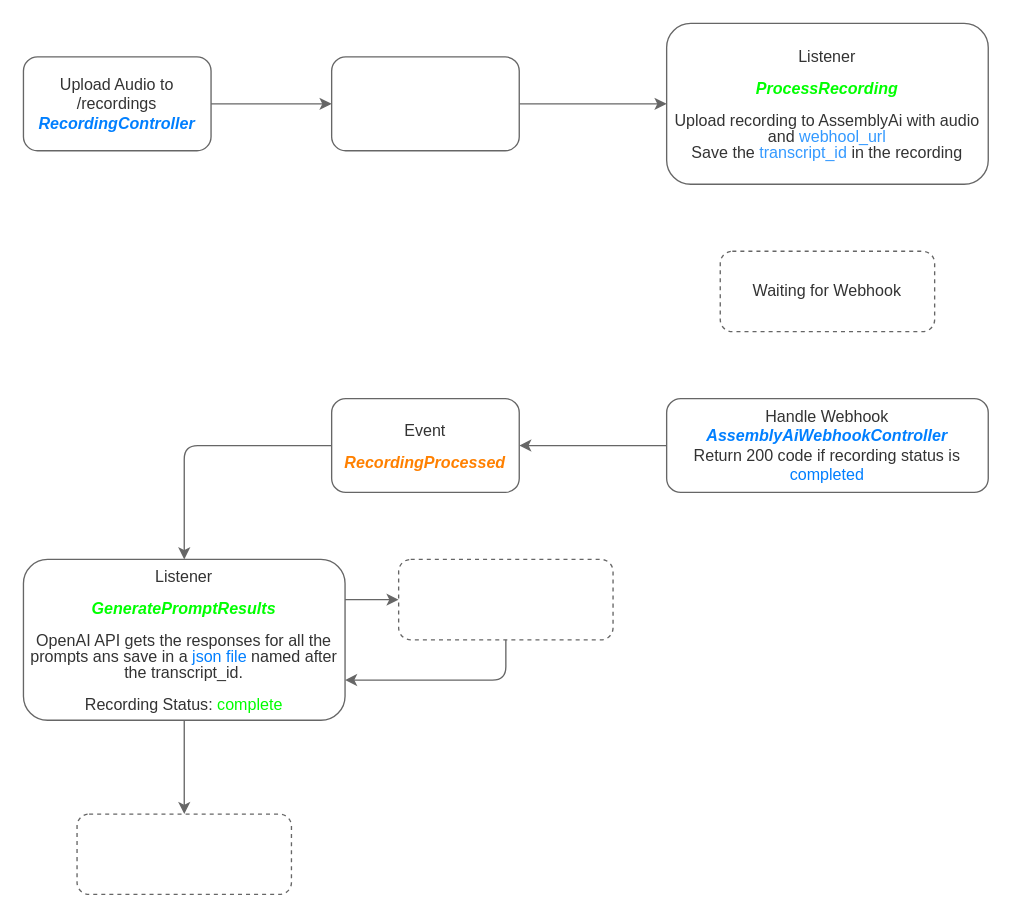
The diagram is 1012 pixels wide and 918 high, and some of its shapes have lost their labels. Each missing label, with the centre of its shape:
"(pending) Notify the user" goes at (183,853).
"Event RecordingUploaded" goes at (424,103).
"Prompt Dependency Sort Algorithm (PDS) Service" goes at (505,599).
